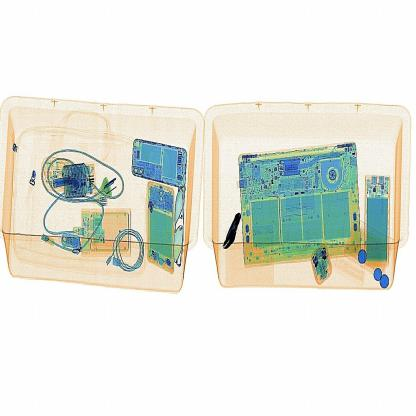knife: (213, 203, 249, 256)
